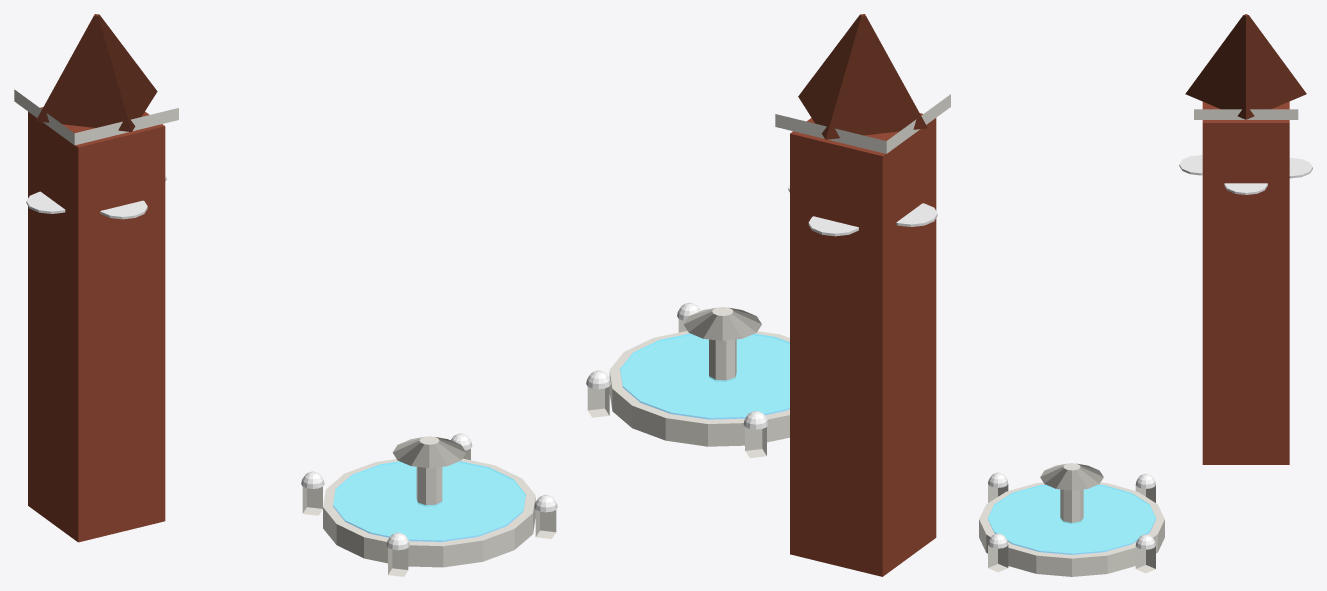
Rendered from terraza.glb.
The picture shows the model from 3 angles, left to right: view 1: azimuth 30°, elevation 25°; view 2: azimuth 150°, elevation 25°; view 3: azimuth 270°, elevation 25°; orthographic projection. The views are drawn at different scales.
Parts seen in each view (by area): view 1: terraza_lod0; view 2: terraza_lod0; view 3: terraza_lod0.
Boxes of the visible parts, x1,y1,x2,y2 form: terraza_lod0: (14, 14, 557, 576); terraza_lod0: (586, 14, 950, 576); terraza_lod0: (979, 14, 1312, 576).
Size of what is drawn, in the model's own units: 13.5 by 16.4 by 11.5.
